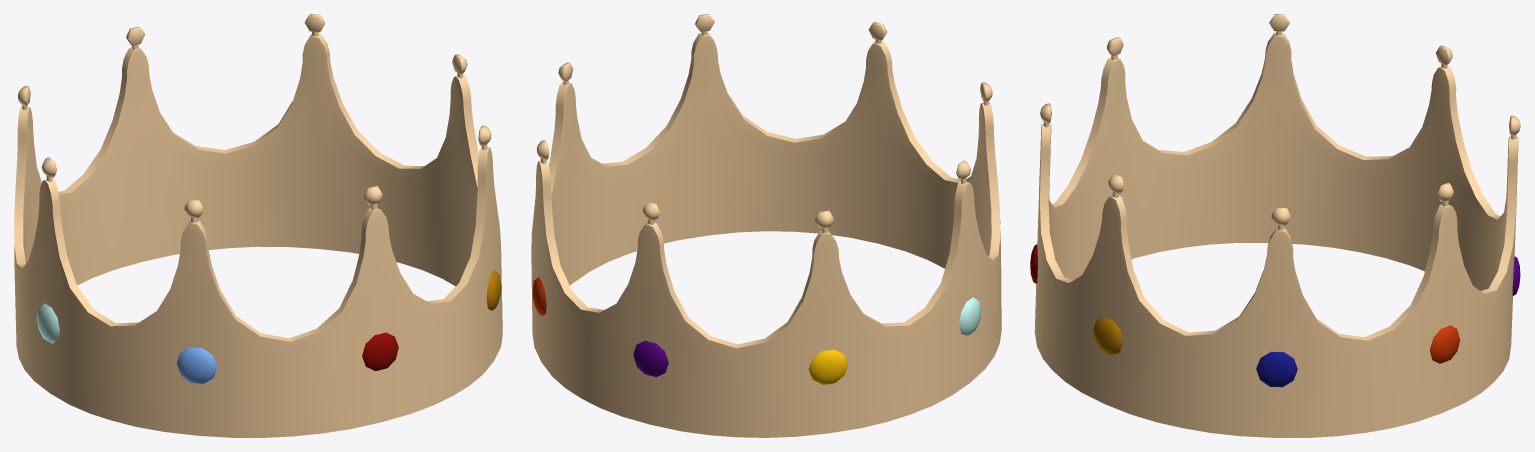
File: Notorious.glb
3 views of the same model, side by side, from view 1: azimuth 30°, elevation 25°; view 2: azimuth 150°, elevation 25°; view 3: azimuth 270°, elevation 25° (orthographic). The views are drawn at different scales.
Visible parts, largest first — view 1: Notorious; view 2: Notorious; view 3: Notorious.
Part boxes in pixels (x1=…): Notorious: x1=14, y1=14, x2=502, y2=437; Notorious: x1=531, y1=14, x2=1001, y2=437; Notorious: x1=1030, y1=14, x2=1520, y2=437.
Bounding box in the file's own units: 0.8494 × 0.4579 × 0.8496.
Materials: 1 (1 with a texture image).
